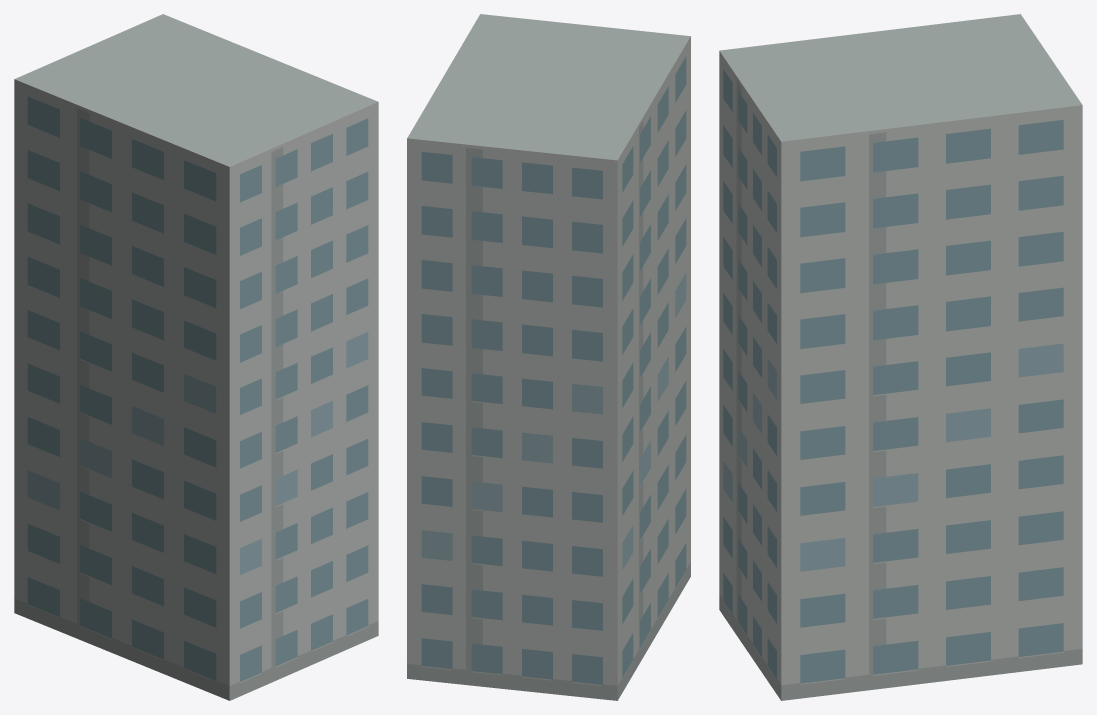
Rendered from residential-ffaa0fe3-3854-4fed-a44f-b1c24e1d7ce7.glb.
The picture shows the model from 3 angles, left to right: view 1: azimuth 30°, elevation 25°; view 2: azimuth 150°, elevation 25°; view 3: azimuth 270°, elevation 25°; orthographic projection. The views are drawn at different scales.
Parts seen in each view (by area): view 1: residential-ffaa0fe3-3854-4fed-a44f-b1c24e1d7ce7.tmp; view 2: residential-ffaa0fe3-3854-4fed-a44f-b1c24e1d7ce7.tmp; view 3: residential-ffaa0fe3-3854-4fed-a44f-b1c24e1d7ce7.tmp.
Boxes of the visible parts, x1,y1,x2,y2 form: residential-ffaa0fe3-3854-4fed-a44f-b1c24e1d7ce7.tmp: (14, 14, 378, 700); residential-ffaa0fe3-3854-4fed-a44f-b1c24e1d7ce7.tmp: (407, 14, 690, 700); residential-ffaa0fe3-3854-4fed-a44f-b1c24e1d7ce7.tmp: (719, 14, 1082, 700).
Bounding box in the file's own units: 20.1 × 41 × 24.16.
